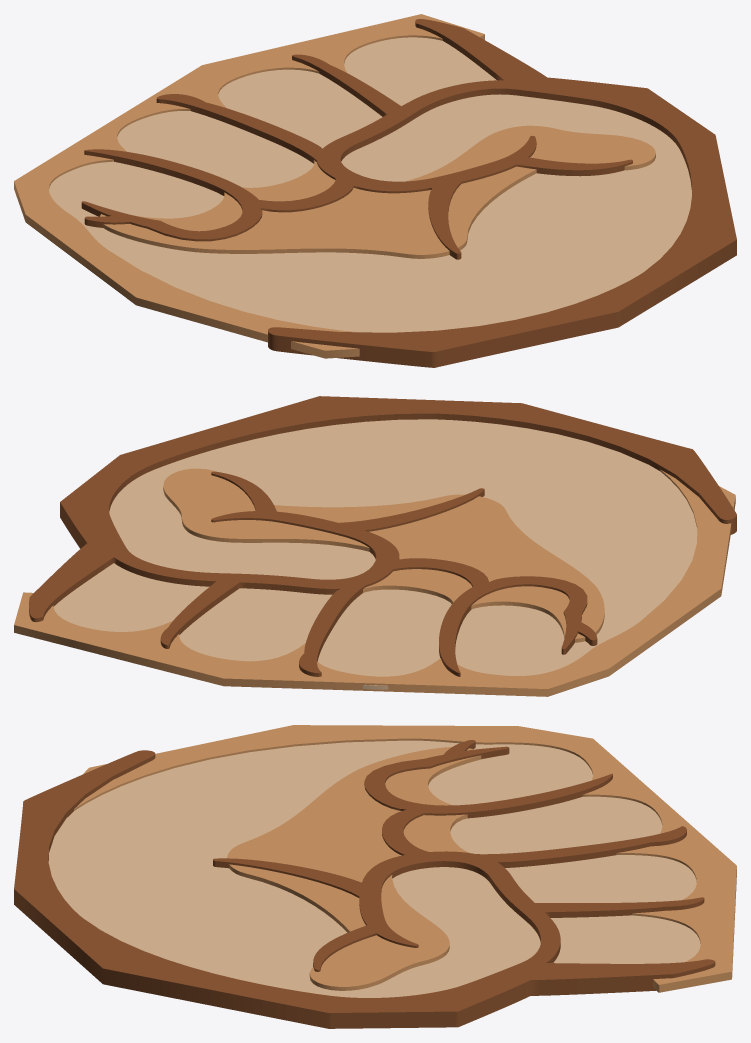
The model's file is emoji_u270a_1f3fc.glb.
The picture shows the model from 3 angles, top to bottom: view 1: azimuth 30°, elevation 25°; view 2: azimuth 150°, elevation 25°; view 3: azimuth 270°, elevation 25°; orthographic projection. The views are drawn at different scales.
Parts seen in each view (by area): view 1: emoji_u270a_1f3fc; view 2: emoji_u270a_1f3fc; view 3: emoji_u270a_1f3fc.
Part boxes in pixels (x1,y1,x2,y2): emoji_u270a_1f3fc: (14,14,736,367); emoji_u270a_1f3fc: (14,396,736,696); emoji_u270a_1f3fc: (14,725,736,1028).
Bounding box in the file's own units: 0.0317 × 0.0008 × 0.0332.
